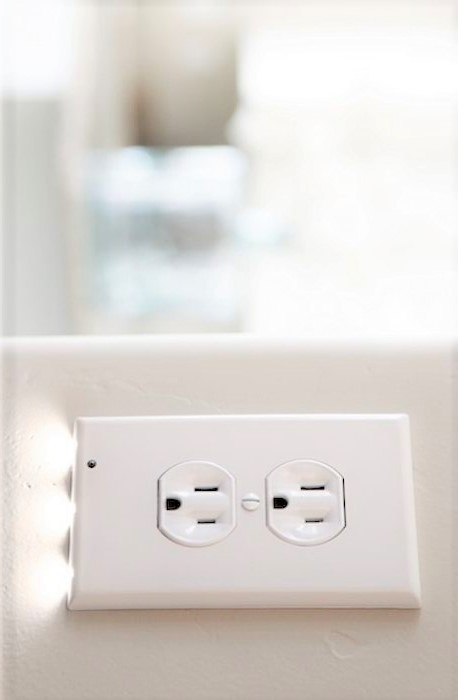outlet: (161, 476, 230, 531), (269, 478, 334, 527)
